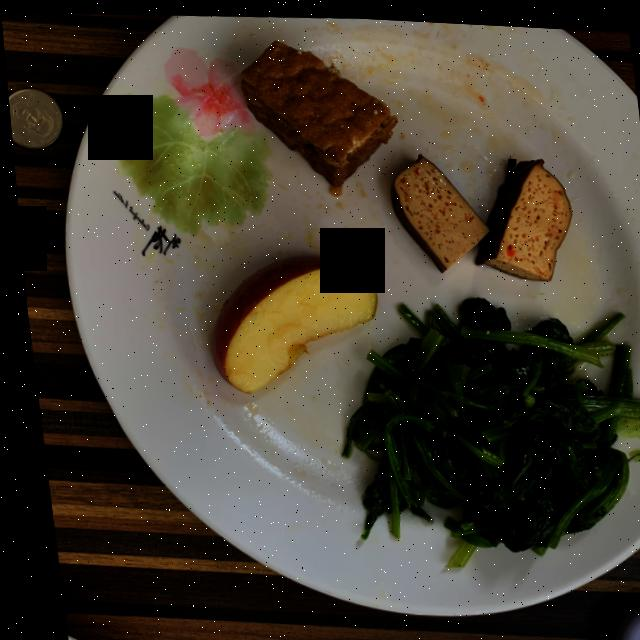apple -sliced-: (206, 251, 371, 390)
coin: (7, 87, 61, 146)
egg tofu: (239, 36, 395, 184)
firm tofu: (387, 150, 568, 274)
mustard greens: (334, 292, 640, 560)
